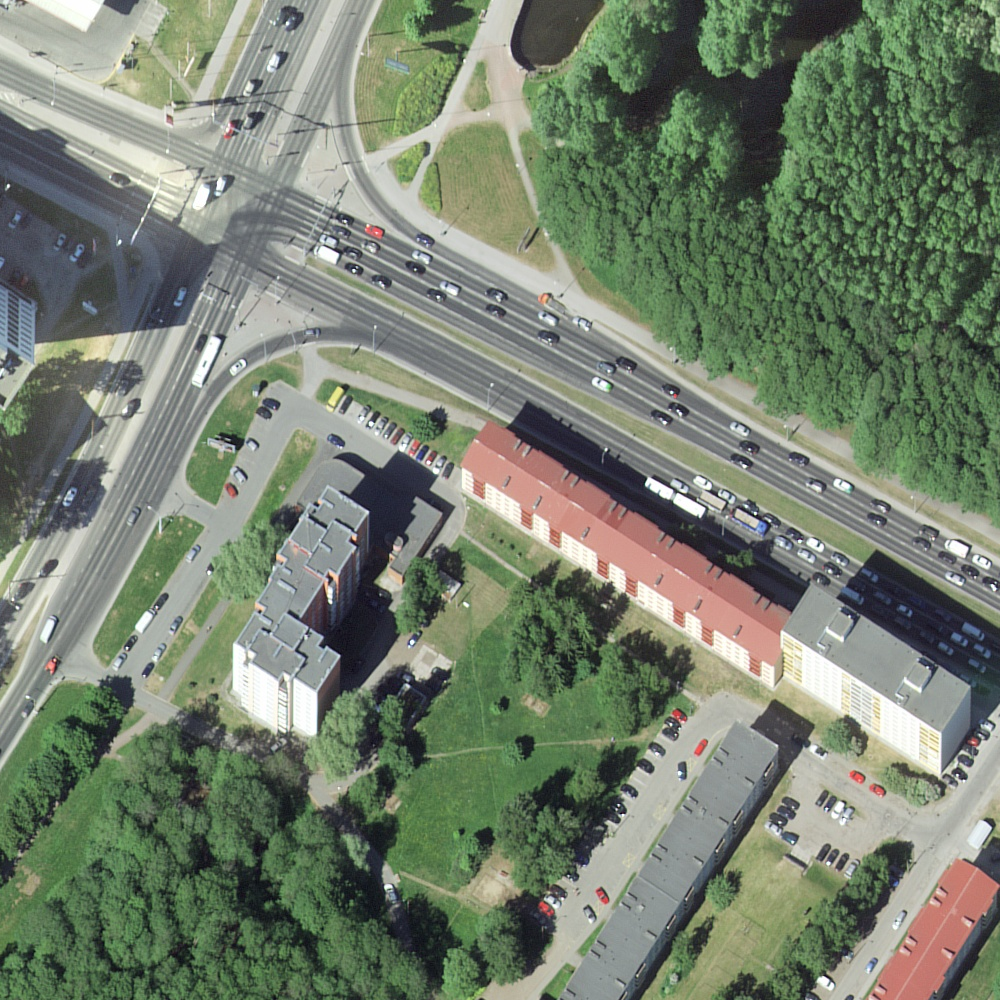building: (460, 420, 801, 664), (560, 722, 781, 999), (781, 581, 972, 732), (236, 482, 374, 688), (867, 855, 1000, 1000), (2, 343, 38, 419)
